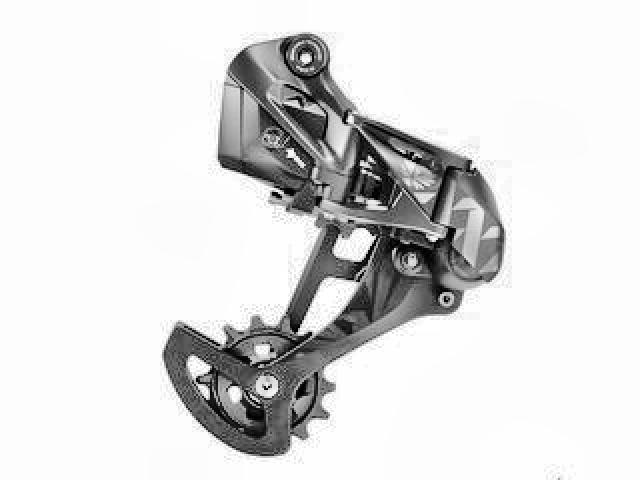rear_derailleur: (160, 27, 510, 458)
